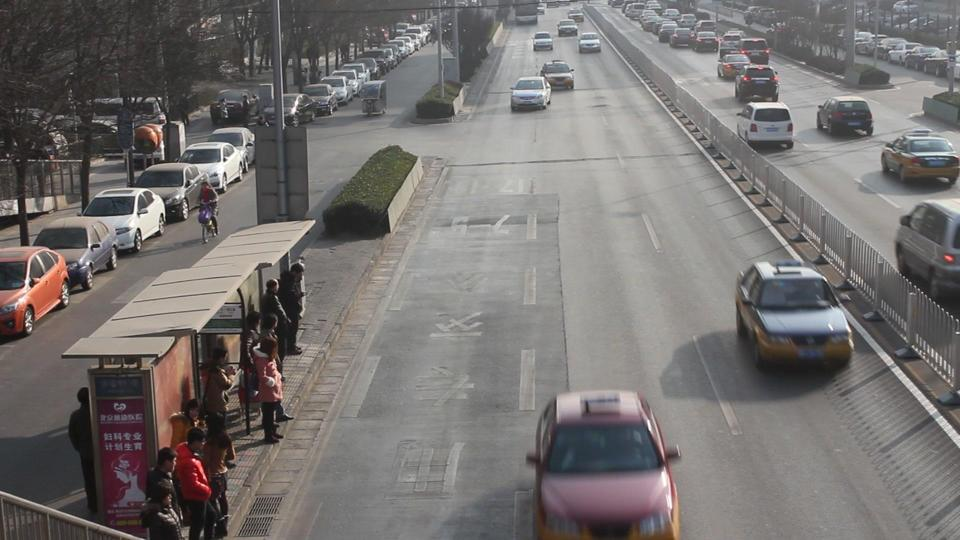bicycle: (196, 203, 220, 245)
car: (526, 388, 684, 540), (735, 259, 854, 371), (893, 198, 960, 308), (0, 245, 72, 339), (31, 217, 121, 292), (79, 187, 167, 253), (130, 162, 214, 223), (879, 134, 960, 184), (176, 144, 245, 191), (735, 101, 796, 150), (816, 95, 876, 137), (207, 127, 258, 170), (259, 93, 319, 126), (735, 64, 781, 102), (510, 76, 554, 110), (319, 75, 359, 104), (302, 83, 339, 113), (541, 61, 576, 90), (736, 37, 771, 64), (689, 23, 720, 53), (717, 54, 752, 79), (354, 55, 388, 78), (340, 62, 374, 82), (668, 26, 694, 48), (578, 32, 602, 53), (532, 31, 554, 51), (557, 20, 579, 37)
person: (171, 442, 216, 540), (140, 447, 184, 540), (255, 336, 279, 445), (256, 274, 288, 355), (205, 346, 234, 431), (287, 259, 310, 357)
